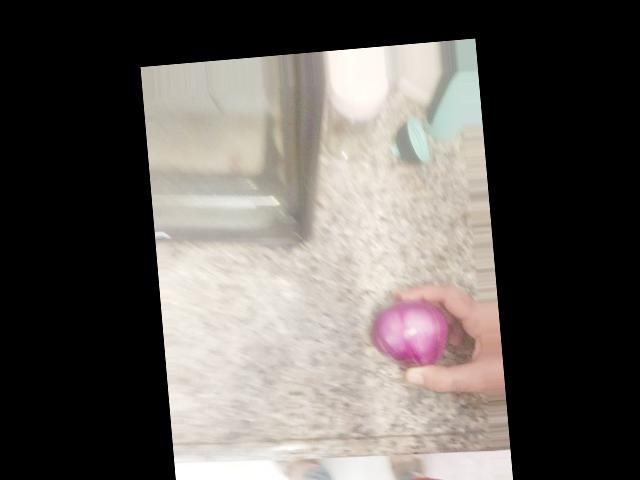onion: (179, 288, 260, 383)
